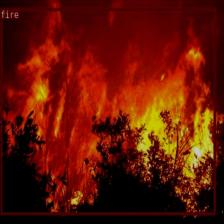fire: (0, 7, 215, 215)
